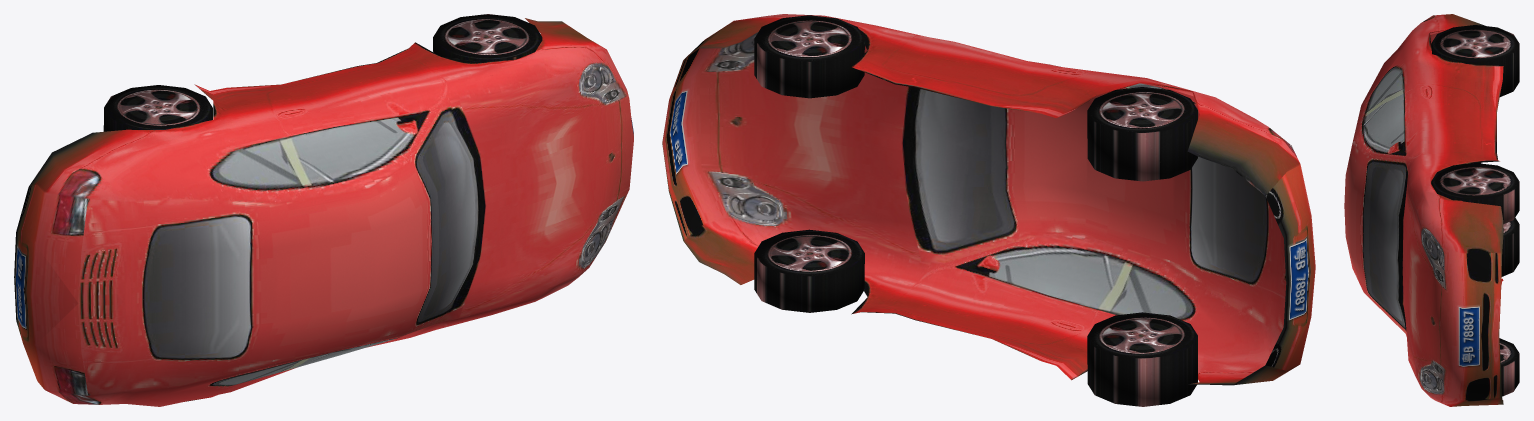
Rendered from hongseqiaoche.DAE.
The picture shows the model from 3 angles, left to right: view 1: azimuth 30°, elevation 25°; view 2: azimuth 150°, elevation 25°; view 3: azimuth 270°, elevation 25°; orthographic projection. The views are drawn at different scales.
Visible parts, largest first — view 1: BORSCHE009; view 2: BORSCHE009; view 3: BORSCHE009.
Boxes of the visible parts, left/top/right/bottom form: BORSCHE009: left=14, top=14, right=633, bottom=406; BORSCHE009: left=662, top=14, right=1315, bottom=406; BORSCHE009: left=1344, top=14, right=1519, bottom=406.
Bounding box in the file's own units: 4.76 × 2.05 × 1.44.
Materials: 1 (1 with a texture image).
